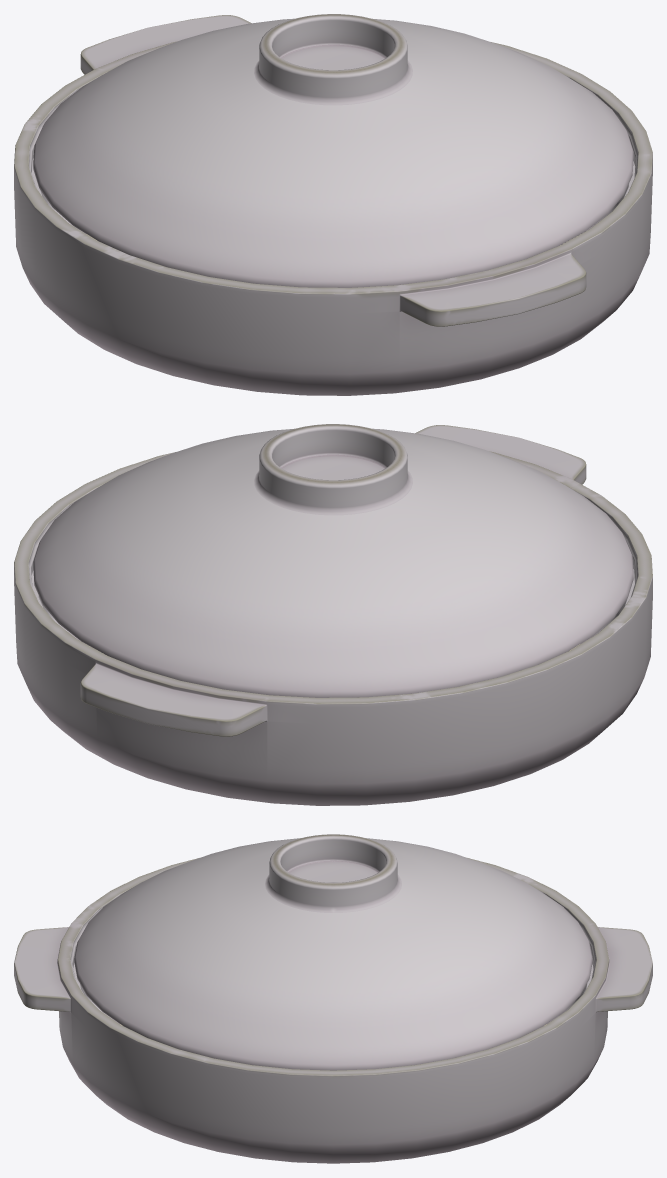
Rendered from Donabe.fbx.
The picture shows the model from 3 angles, top to bottom: view 1: azimuth 30°, elevation 25°; view 2: azimuth 150°, elevation 25°; view 3: azimuth 270°, elevation 25°; orthographic projection. The views are drawn at different scales.
Visible parts, largest first — view 1: nabebuta, habezoko; view 2: nabebuta, habezoko; view 3: nabebuta, habezoko.
Boxes of the visible parts, x1,y1,x2,y2 form: nabebuta: (33,14,633,287); habezoko: (14,15,652,395); nabebuta: (33,424,633,697); habezoko: (14,425,652,805); nabebuta: (74,834,592,1070); habezoko: (14,858,652,1163).
Bounding box in the file's own units: 10000 × 4061 × 11584.
Materials: 1 (1 with a texture image).
